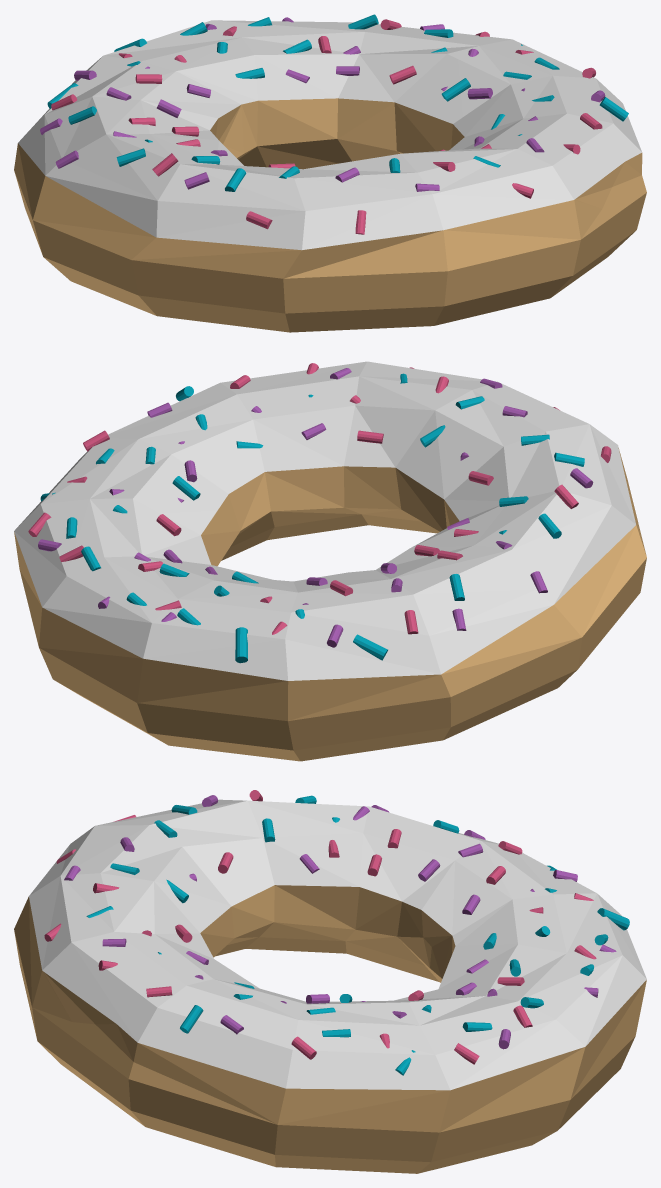
The picture shows the model from 3 angles, top to bottom: view 1: azimuth 30°, elevation 25°; view 2: azimuth 150°, elevation 25°; view 3: azimuth 270°, elevation 25°; orthographic projection.
Parts seen in each view (by area): view 1: node_MeshObject-2047913984-PolyPaper21, node_MeshObject1102895104-PolyPaper7; view 2: node_MeshObject-2047913984-PolyPaper21, node_MeshObject1102895104-PolyPaper7; view 3: node_MeshObject-2047913984-PolyPaper21, node_MeshObject1102895104-PolyPaper7.
Boxes of the visible parts, <box> form: node_MeshObject-2047913984-PolyPaper21: <box>14,17,646,332</box>; node_MeshObject1102895104-PolyPaper7: <box>348,14,628,146</box>; node_MeshObject-2047913984-PolyPaper21: <box>14,361,646,761</box>; node_MeshObject1102895104-PolyPaper7: <box>28,375,326,571</box>; node_MeshObject-2047913984-PolyPaper21: <box>14,790,646,1173</box>; node_MeshObject1102895104-PolyPaper7: <box>146,951,543,1075</box>.
Size of the model in its own units: 0.5651 by 0.1991 by 0.572.
